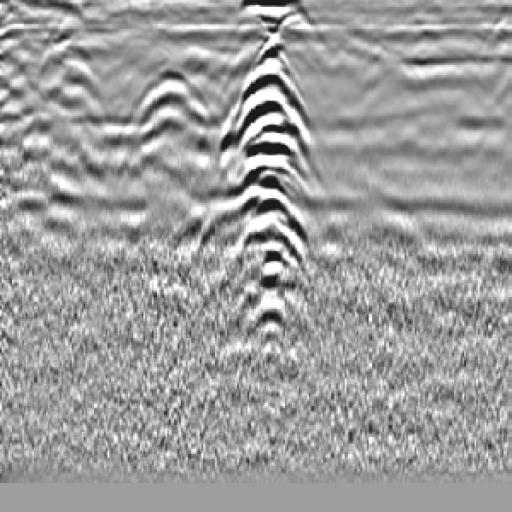metalic: (226, 32, 321, 323)
nonmetalic: (113, 60, 221, 176)
